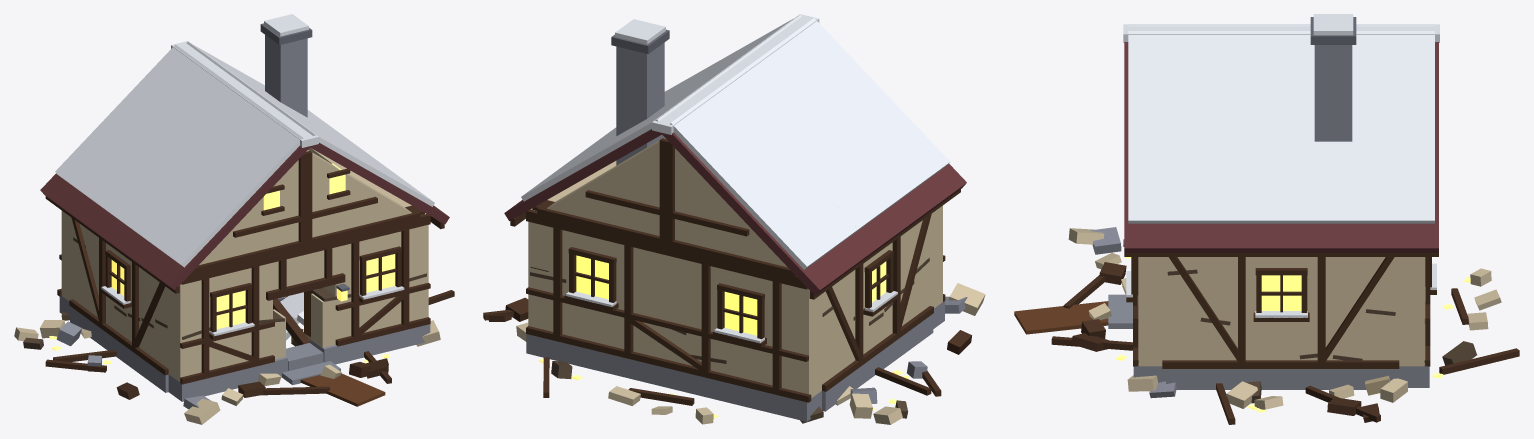
File: house.glb
The picture shows the model from 3 angles, left to right: view 1: azimuth 30°, elevation 25°; view 2: azimuth 150°, elevation 25°; view 3: azimuth 270°, elevation 25°; orthographic projection. The views are drawn at different scales.
Visible parts, largest first — view 1: wall_front, roof_left_c2, wall_front_broken, wall_left, roof_left_c0, roof_left_c5, roof_left_c1, roof_left_c3, roof_right, roof_left, roof_right_c2, roof_left_c4 (+22 smaller); view 2: wall_back, roof_left_c0, roof_left_c3, wall_left, roof_left_c2, wall_back_broken, roof_right, roof_left_c1, roof_right_c0, roof_left_c5, roof_left_c4, wall_left_broken (+22 smaller); view 3: roof_right_c2, roof_right_c0, roof_right_c1, roof_right_c5, roof_right, roof_right_c3, wall_right_broken, wall_front_broken, roof_right_c4, wall_right_c1, wall_front, wall_back (+15 smaller).
Boxes of the visible parts, x1,y1,x2,y2 form: wall_front: (168,214,430,401); roof_left_c2: (123,158,252,293); wall_front_broken: (182,273,440,424); wall_left: (69,218,168,392); roof_left_c0: (40,98,169,228); roof_left_c5: (206,104,310,260); roof_left_c1: (87,132,205,254); roof_left_c3: (124,44,220,131); roof_right: (232,23,440,237); roof_left: (40,43,310,293); roof_right_c2: (322,131,449,232); roof_left_c4: (170,78,261,157); wall_back: (526,209,821,421); roof_left_c0: (726,146,872,299); roof_left_c3: (661,85,779,262); wall_left: (822,214,933,411); roof_left_c2: (820,79,966,226); wall_back_broken: (526,272,823,424); roof_right: (505,14,808,244); roof_left_c1: (780,116,913,255); roof_right_c0: (504,23,650,230); roof_left_c5: (763,18,871,116); roof_left_c4: (716,55,819,145); wall_left_broken: (822,257,971,424); roof_right_c2: (1124,111,1238,252); roof_right_c0: (1325,19,1438,252); roof_right_c1: (1238,19,1324,252); roof_right_c5: (1124,31,1238,118); roof_right: (1123,17,1439,256); roof_right_c3: (1325,14,1439,118); wall_right_broken: (1162,269,1407,424); wall_front_broken: (1014,227,1176,398); roof_right_c4: (1238,14,1324,111); wall_right_c1: (1238,337,1324,389); wall_front: (1123,239,1165,382); wall_back: (1397,257,1436,387).
Bounding box in the file's own units: 13.26 × 9.43 × 12.68.
Materials: 1 (1 with a texture image).
